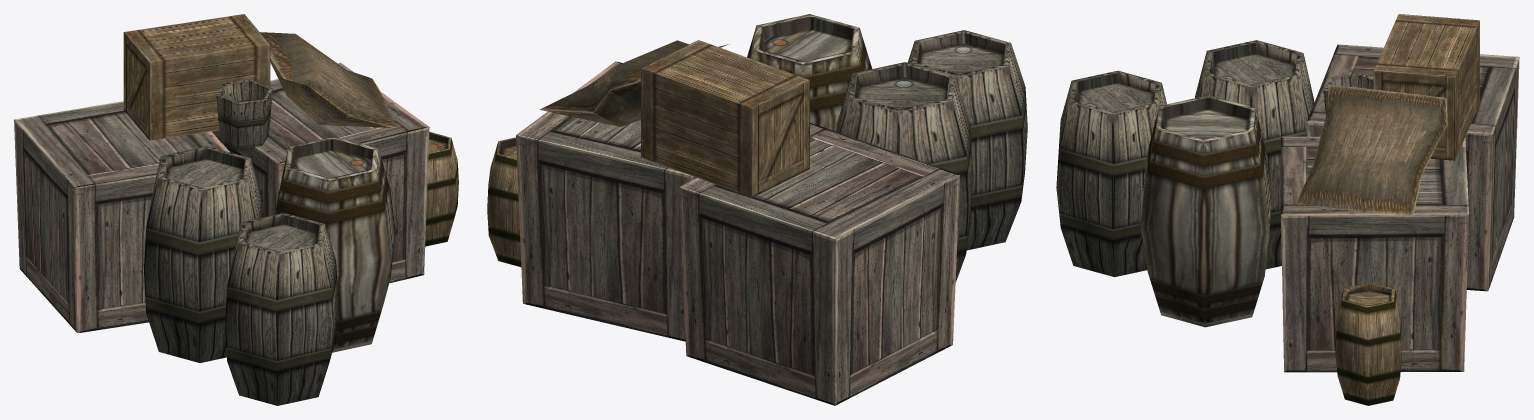
The model's file is prop_group_B.fbx.
3 views of the same model, side by side, from view 1: azimuth 30°, elevation 25°; view 2: azimuth 150°, elevation 25°; view 3: azimuth 270°, elevation 25° (orthographic). The views are drawn at different scales.
Visible parts, largest first — view 1: polySurface1.001, barrel_high1, barrel_high, barrel_high2, crate_Pirate, top.001, polySurface1, sack_high, top, bucket_high, barrel_high3; view 2: polySurface1.001, polySurface1, crate_Pirate, barrel_high1, top.001, barrel_high, barrel_high2, sack_high, top, barrel_high3; view 3: barrel_high2, polySurface1, barrel_high1, sack_high, barrel_high, crate_Pirate, polySurface1.001, barrel_high3, top, top.001, bucket_high.
Part boxes in pixels (x1,y1,x2,y2): polySurface1.001: (14, 120, 156, 333); barrel_high1: (225, 213, 338, 405); barrel_high: (143, 146, 263, 362); barrel_high2: (274, 136, 395, 352); crate_Pirate: (123, 14, 270, 140); top.001: (14, 101, 229, 187); polySurface1: (212, 127, 429, 283); sack_high: (260, 32, 398, 127); top: (255, 62, 428, 163); bucket_high: (216, 80, 272, 151); barrel_high3: (425, 131, 458, 246); polySurface1.001: (679, 175, 959, 405); polySurface1: (516, 135, 696, 341); crate_Pirate: (641, 40, 809, 197); barrel_high1: (907, 30, 1027, 250); top.001: (679, 122, 959, 239); barrel_high: (836, 62, 972, 282); barrel_high2: (747, 14, 872, 131); sack_high: (539, 40, 729, 126); top: (516, 61, 690, 175); barrel_high3: (487, 137, 521, 266); barrel_high2: (1140, 95, 1271, 327); polySurface1: (1281, 215, 1468, 372); barrel_high1: (1056, 70, 1166, 277); sack_high: (1296, 85, 1447, 216); barrel_high: (1195, 40, 1314, 269); crate_Pirate: (1373, 14, 1479, 160); polySurface1.001: (1306, 57, 1519, 291); barrel_high3: (1335, 282, 1402, 405); top: (1281, 136, 1468, 215); top.001: (1307, 44, 1519, 134); bucket_high: (1323, 74, 1373, 114).
Size of the model in its own units: 1538 by 840 by 1449.
1 material, 1 textured.
